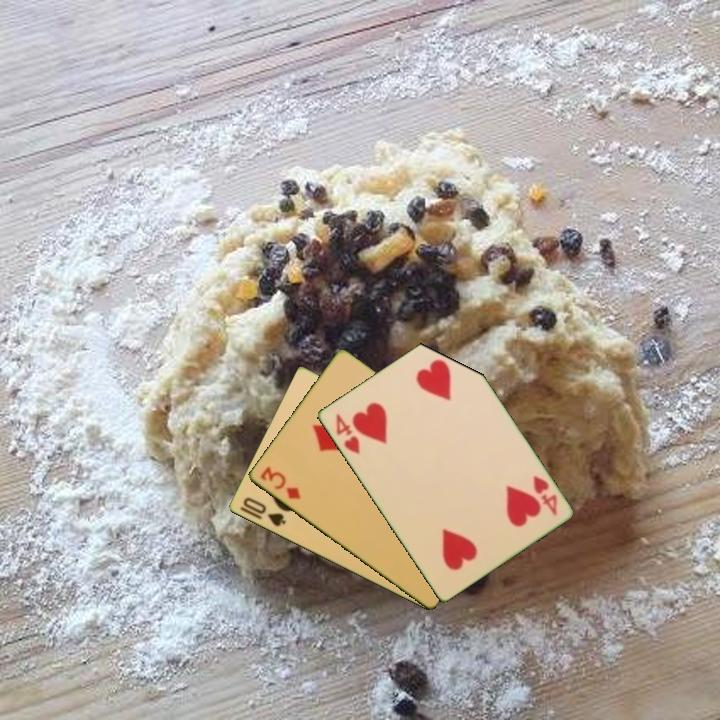10s: (239, 494, 288, 530)
3d: (256, 463, 303, 502)
4h: (332, 410, 363, 457), (529, 472, 560, 518)
